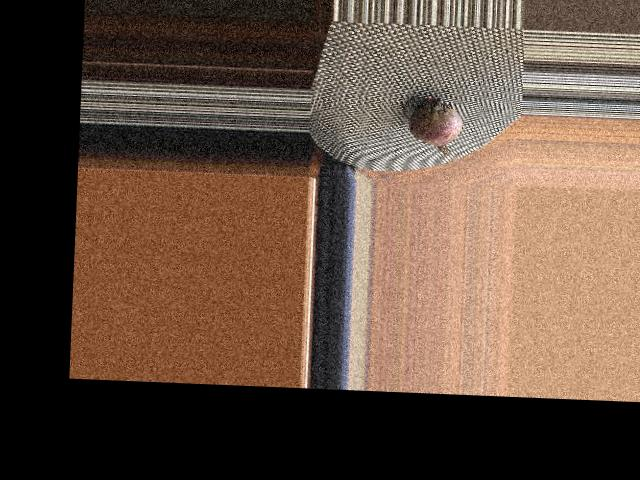beet: (400, 94, 471, 162)
